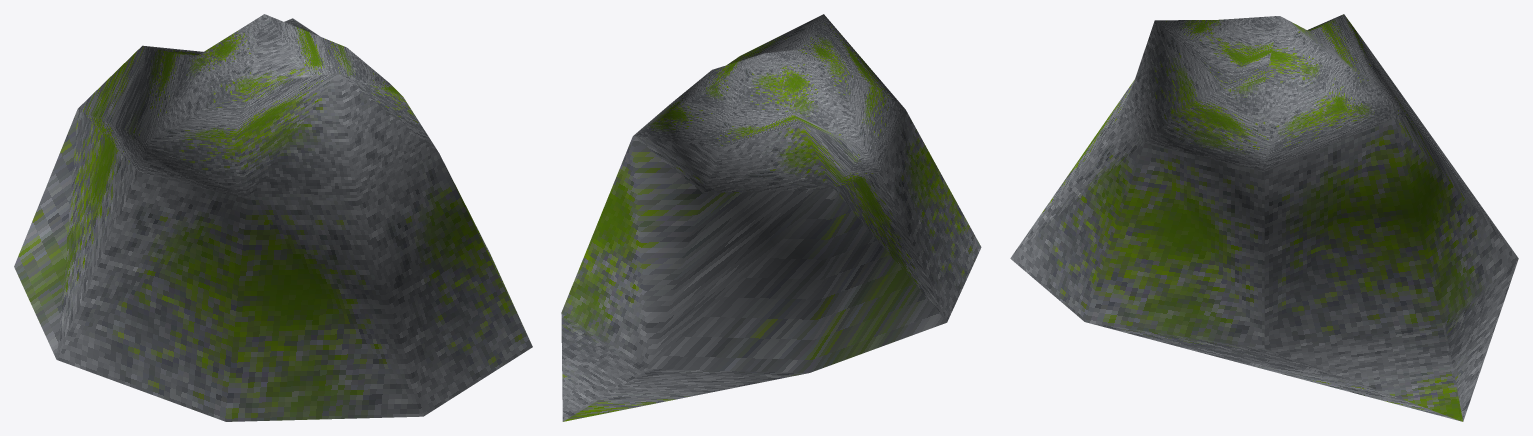
The model's file is rock01.obj.
3 views of the same model, side by side, from view 1: azimuth 30°, elevation 25°; view 2: azimuth 150°, elevation 25°; view 3: azimuth 270°, elevation 25° (orthographic). The views are drawn at different scales.
Parts seen in each view (by area): view 1: Sphere03; view 2: Sphere03; view 3: Sphere03.
Boxes of the visible parts, x1,y1,x2,y2 form: Sphere03: (14, 14, 532, 421); Sphere03: (561, 14, 981, 421); Sphere03: (1010, 14, 1518, 421).
Bounding box in the file's own units: 13.69 × 12.37 × 16.39.
